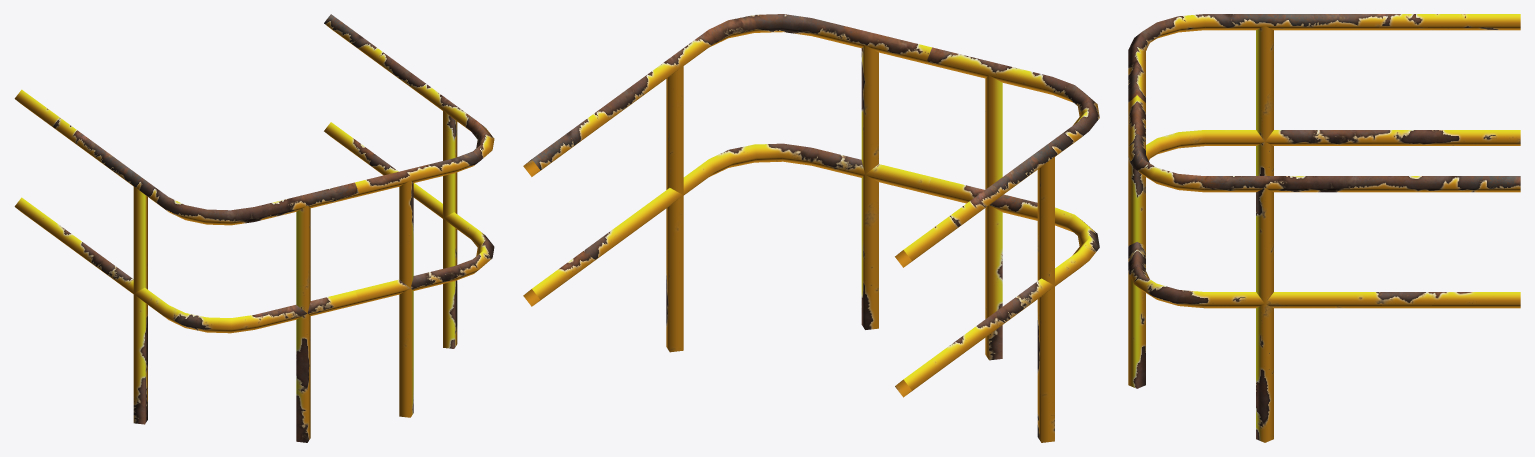
The model's file is safetyRail_corner04.fbx.
3 renders of one model, left to right at view 1: azimuth 30°, elevation 25°; view 2: azimuth 150°, elevation 25°; view 3: azimuth 270°, elevation 25°, orthographic. The views are drawn at different scales.
Visible parts, largest first — view 1: safetyRail_corner04; view 2: safetyRail_corner04; view 3: safetyRail_corner04.
Boxes of the visible parts, x1=… form: safetyRail_corner04: x1=14, y1=14, x2=494, y2=442; safetyRail_corner04: x1=523, y1=14, x2=1099, y2=442; safetyRail_corner04: x1=1128, y1=14, x2=1520, y2=442.
Size of the model in its own units: 157 by 113 by 154.
